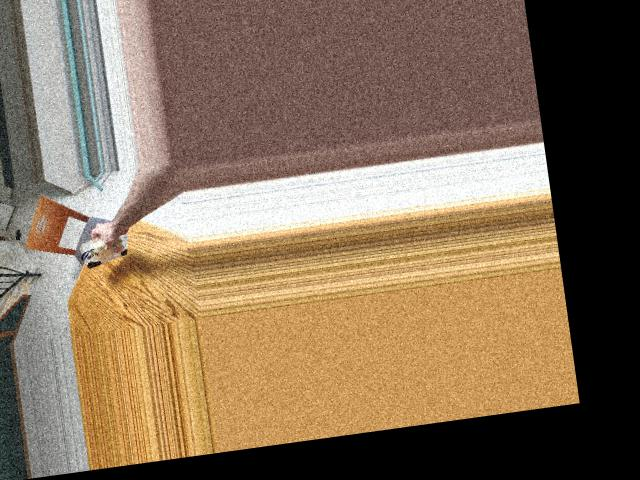cheese: (80, 231, 131, 269)
